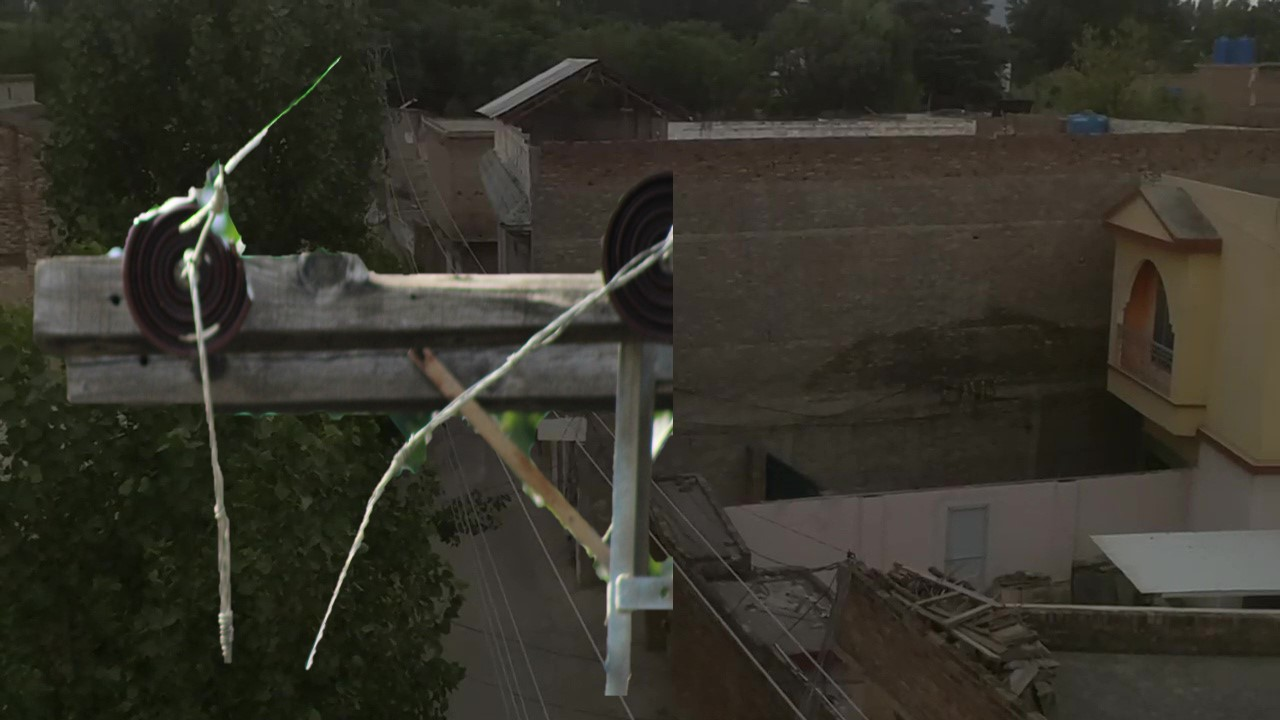defect_disc: (117, 185, 262, 365)
